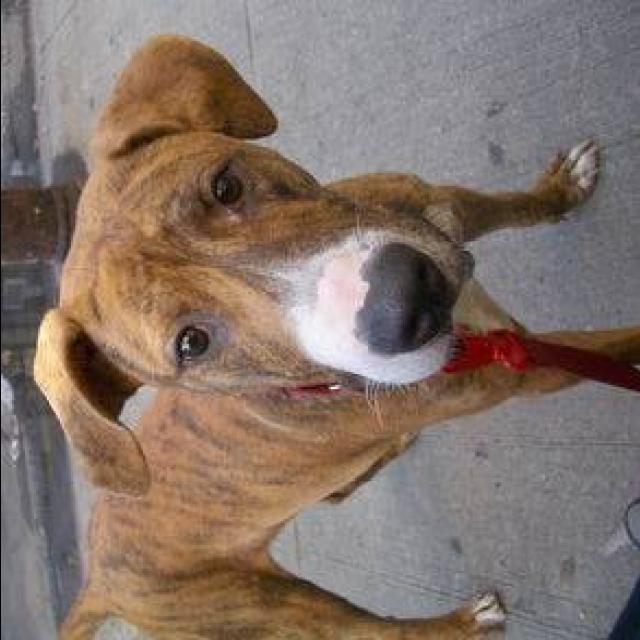dog: (33, 26, 627, 640)
